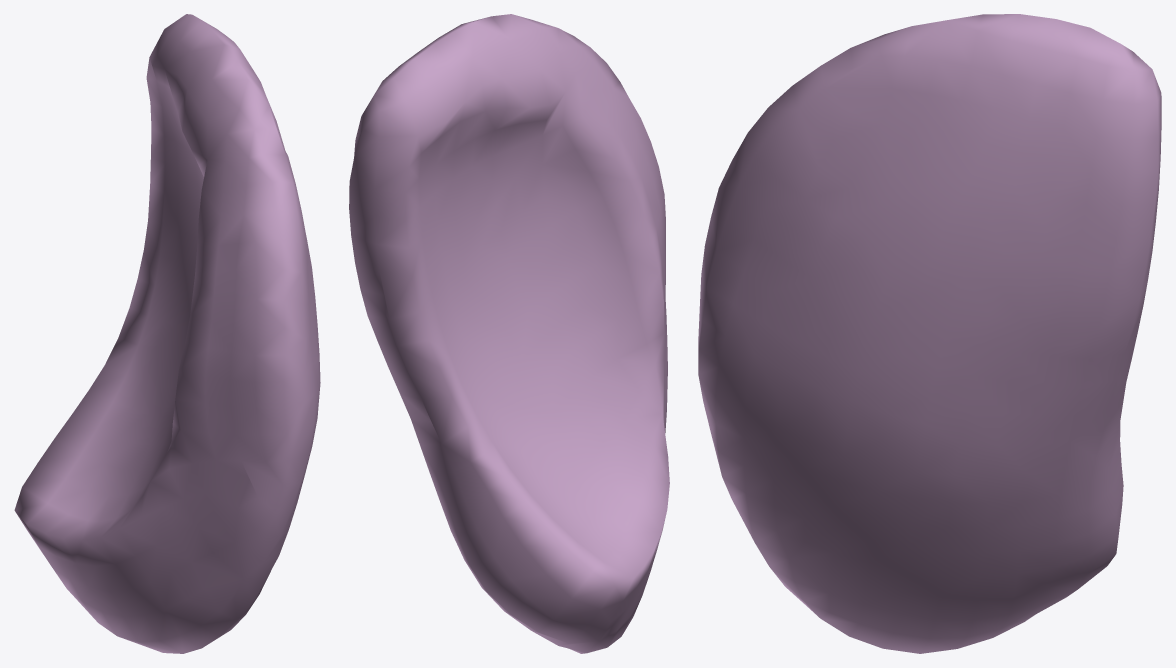
3 views of the same model, side by side, from view 1: azimuth 30°, elevation 25°; view 2: azimuth 150°, elevation 25°; view 3: azimuth 270°, elevation 25° (orthographic). The views are drawn at different scales.
Parts seen in each view (by area): view 1: 左侧壳; view 2: 左侧壳; view 3: 左侧壳.
Part boxes in pixels (x1,y1,x2,y2): 左侧壳: [14, 14, 320, 653]; 左侧壳: [349, 14, 669, 653]; 左侧壳: [698, 14, 1161, 653].
Size of the model in its own units: 0.0261 by 0.0614 by 0.0371.
